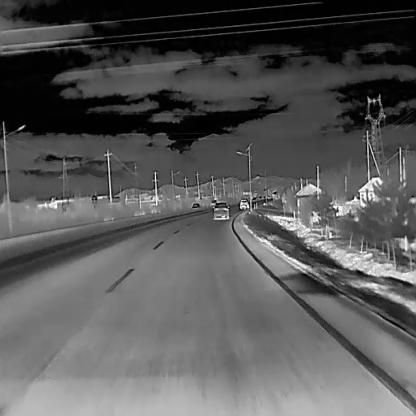car: (212, 202, 230, 220), (239, 198, 249, 209), (191, 202, 199, 209), (209, 199, 216, 206)
